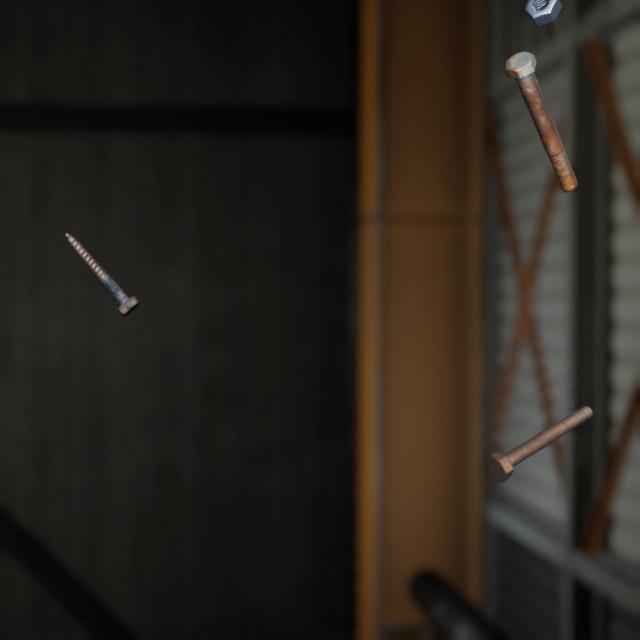bolt: (501, 34, 581, 184), (482, 381, 597, 464), (60, 212, 144, 304)
nut: (520, 0, 566, 23)
